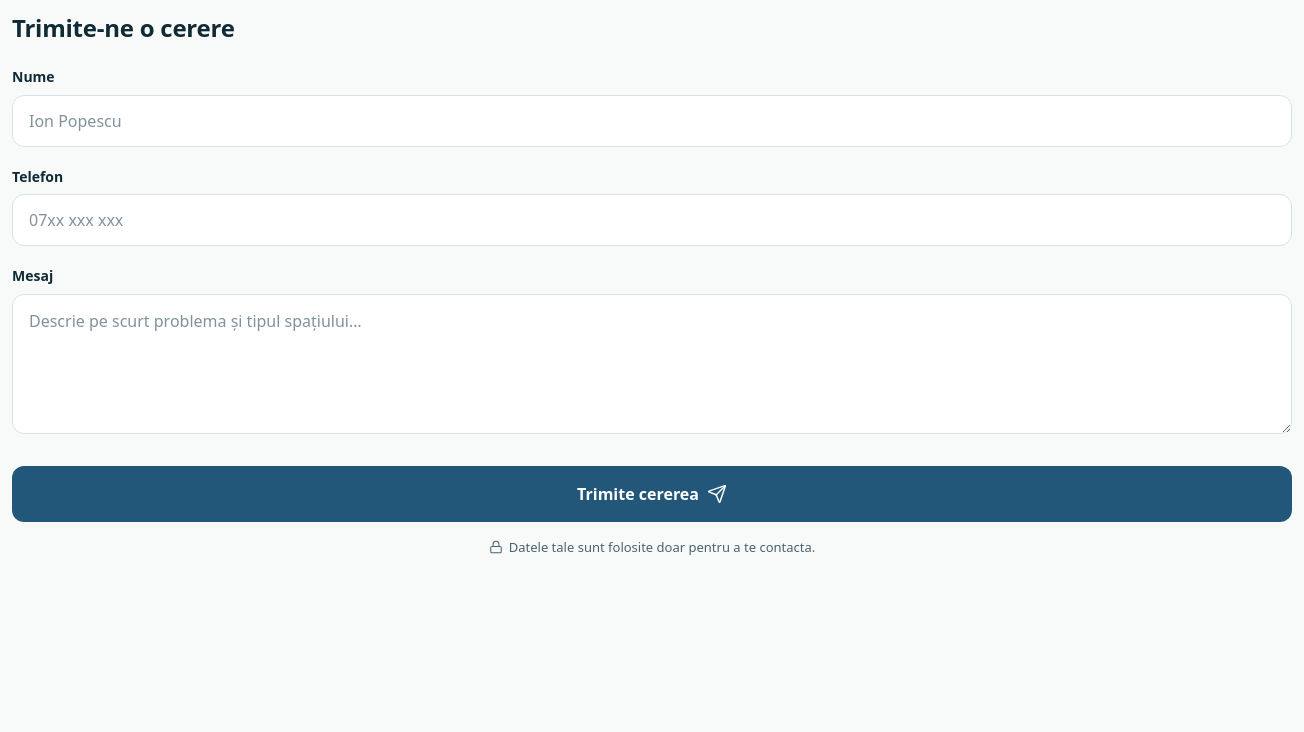
Test: ContactForm › submits trimmed values and shows the confirmation
In the field labelled "Nume": {"x": 652, "y": 121} [12,95,1292,147], type "  Ion Popescu "
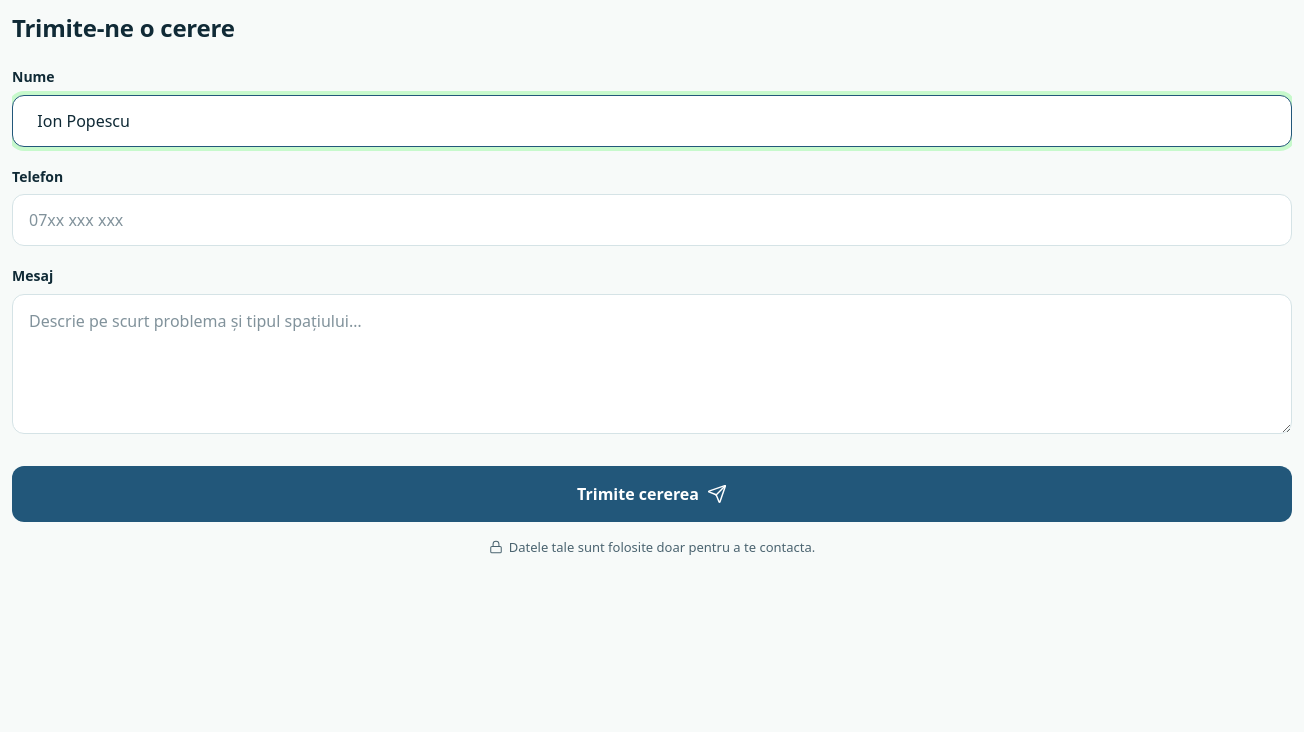
In the field labelled "Telefon": {"x": 652, "y": 220} [12,194,1292,246], type "0722 000 000"
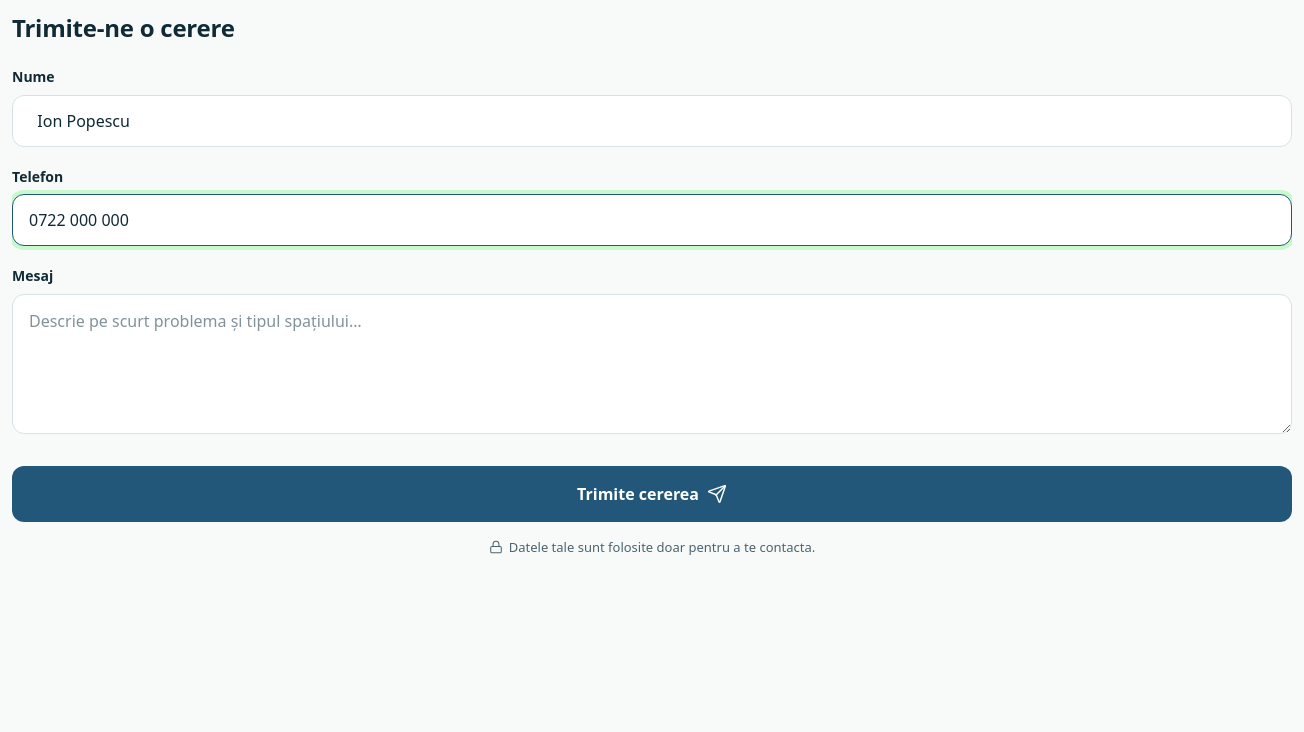
In the text box labelled "Mesaj": {"x": 652, "y": 364} [12,294,1292,434], type "Am gândaci în bucătărie."
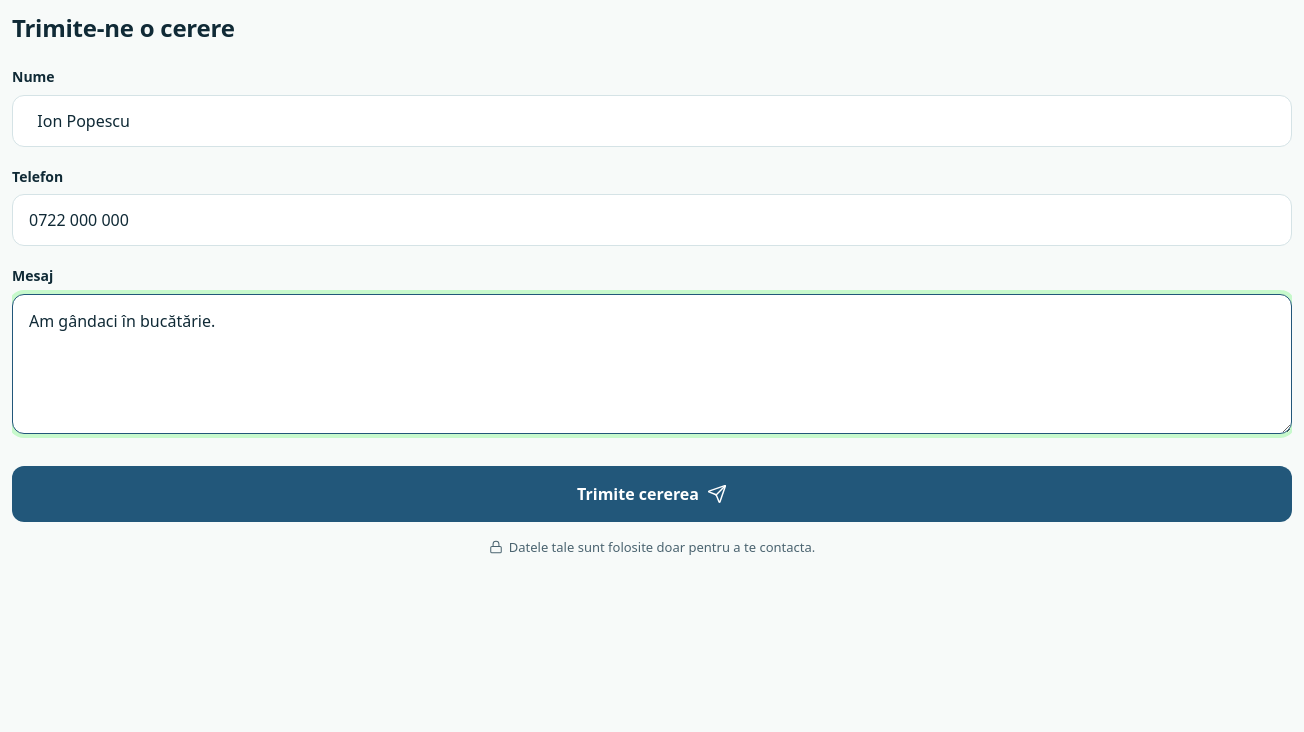
Click the button "Trimite cererea": {"x": 652, "y": 494} [12,466,1292,522]
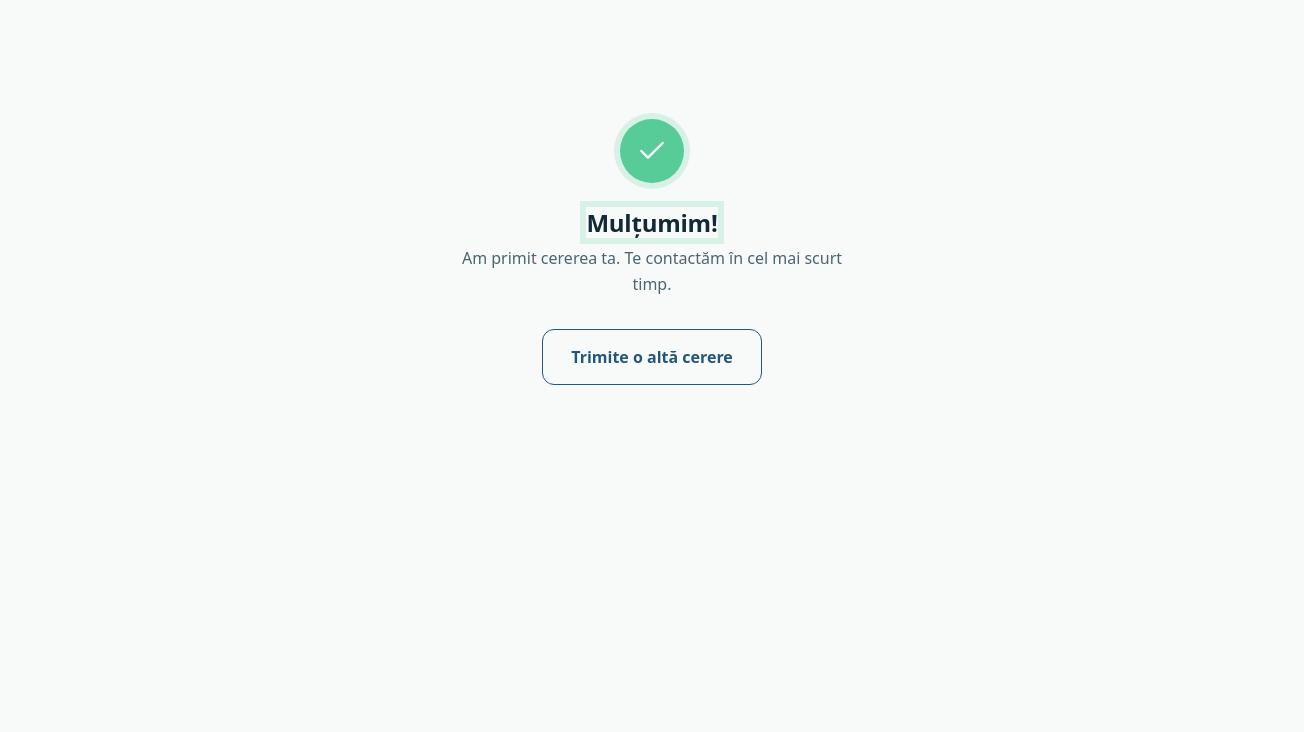
expect the text "Am primit cererea ta. Te contactăm în cel mai scurt timp." is shown: met, box [460,246,844,297]
